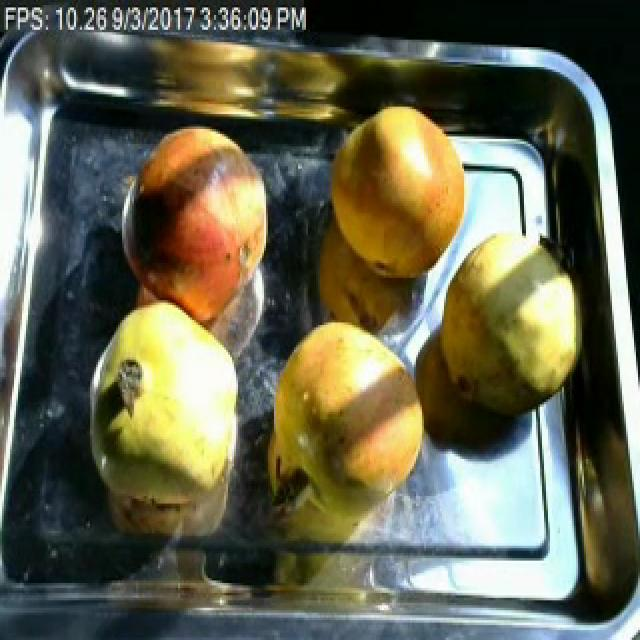fruit: (84, 285, 252, 541), (110, 114, 286, 335), (258, 300, 436, 516), (428, 213, 586, 427), (316, 99, 478, 290)
